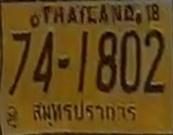0: (120, 29, 140, 92)
1: (76, 31, 87, 93)
2: (144, 29, 166, 94)
4: (32, 31, 53, 92)
7: (7, 32, 31, 96)
8: (95, 31, 116, 91)
SPK: (28, 99, 140, 126)
